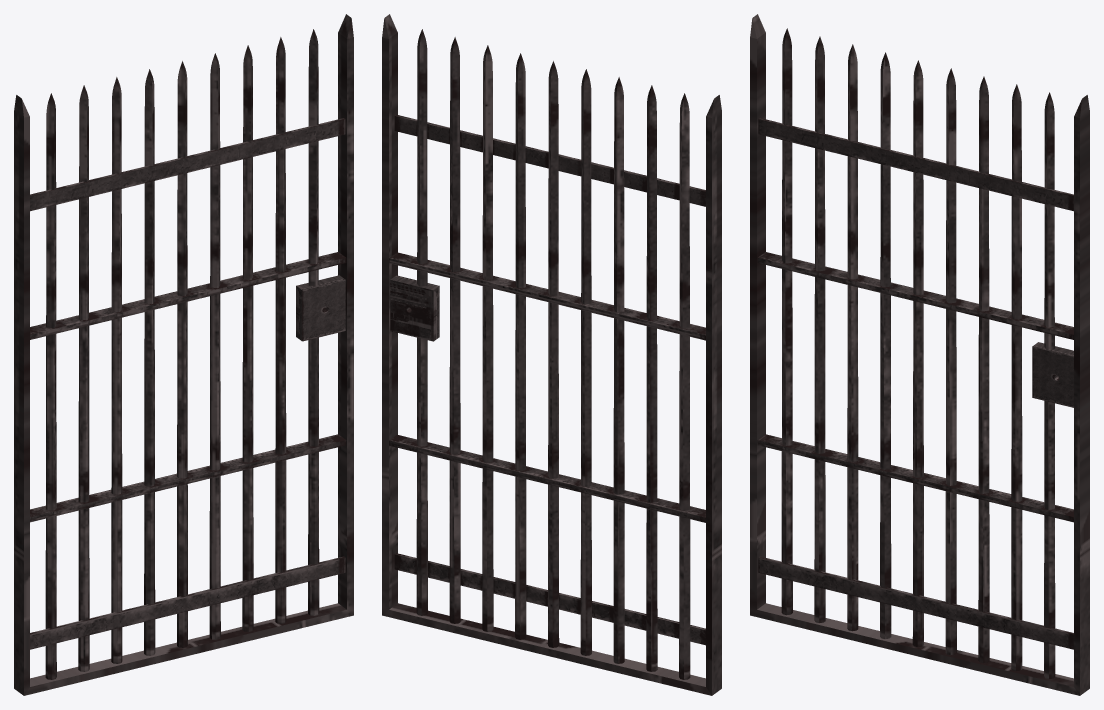
File: old gate.fbx
The picture shows the model from 3 angles, left to right: view 1: azimuth 30°, elevation 25°; view 2: azimuth 150°, elevation 25°; view 3: azimuth 330°, elevation 25°; orthographic projection.
Visible parts, largest first — view 1: Cube.003; view 2: Cube.003; view 3: Cube.003.
Part boxes in pixels (x1=…): Cube.003: x1=14, y1=14, x2=353, y2=695; Cube.003: x1=382, y1=14, x2=721, y2=695; Cube.003: x1=750, y1=14, x2=1089, y2=695.
Size of the model in its own units: 128 by 222 by 6.71.
